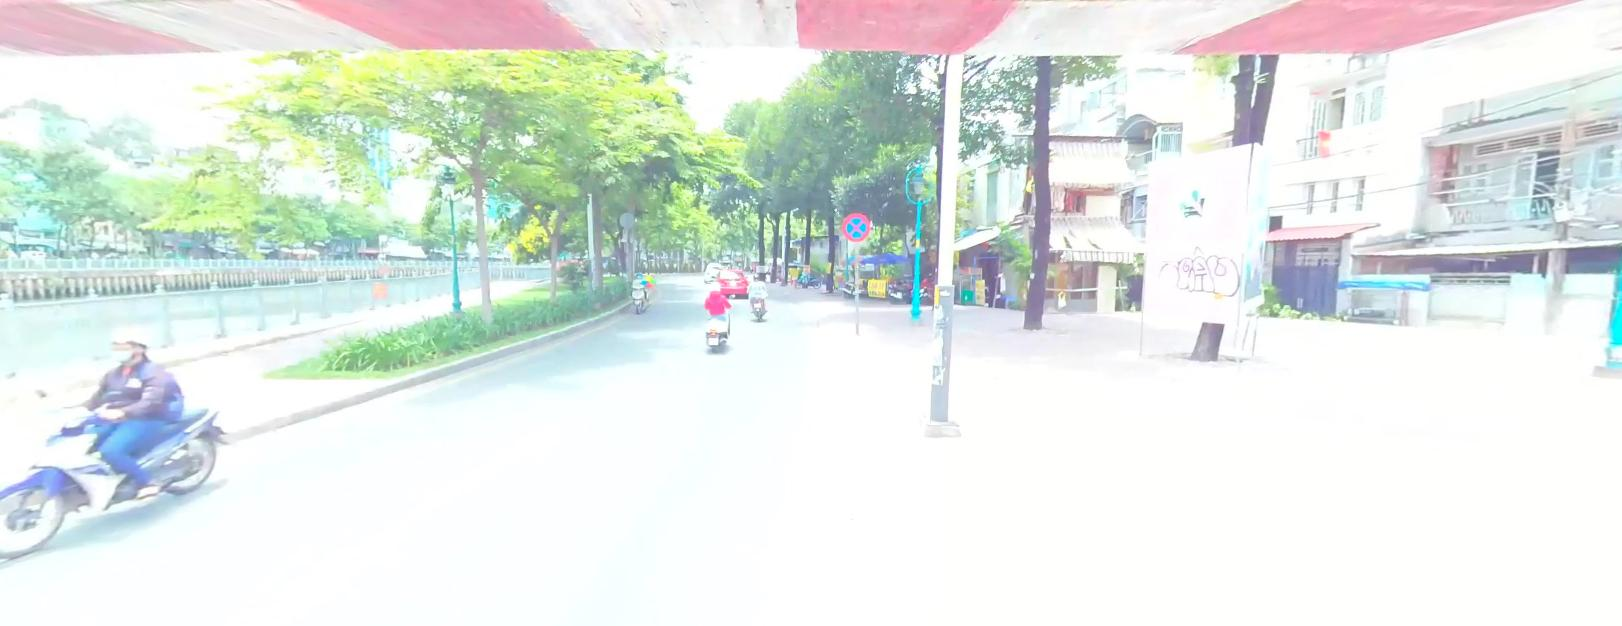Cam dung va do: (841, 211, 870, 241)
